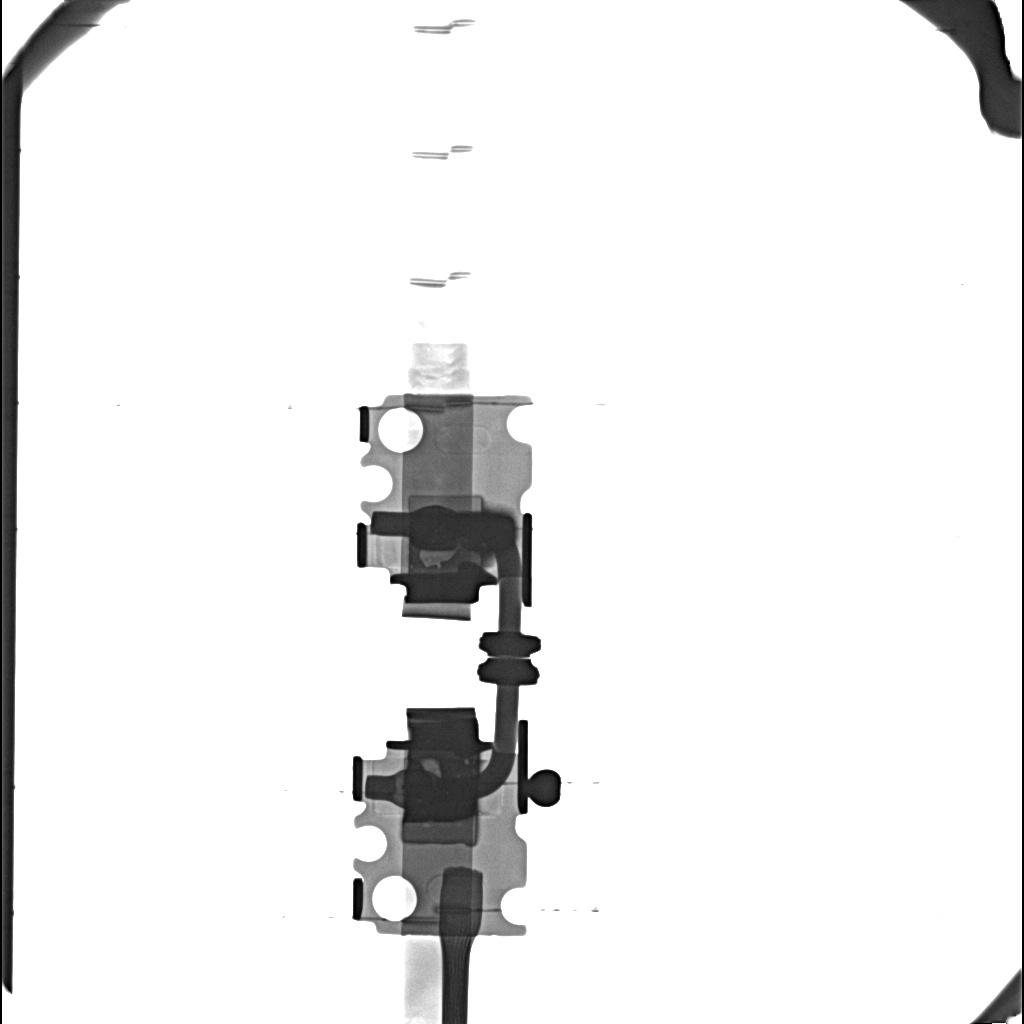PX: (401, 816, 480, 847), (408, 495, 483, 510)
QP: (419, 551, 456, 566), (422, 759, 442, 777)
SX: (409, 508, 514, 552), (404, 771, 477, 820)
